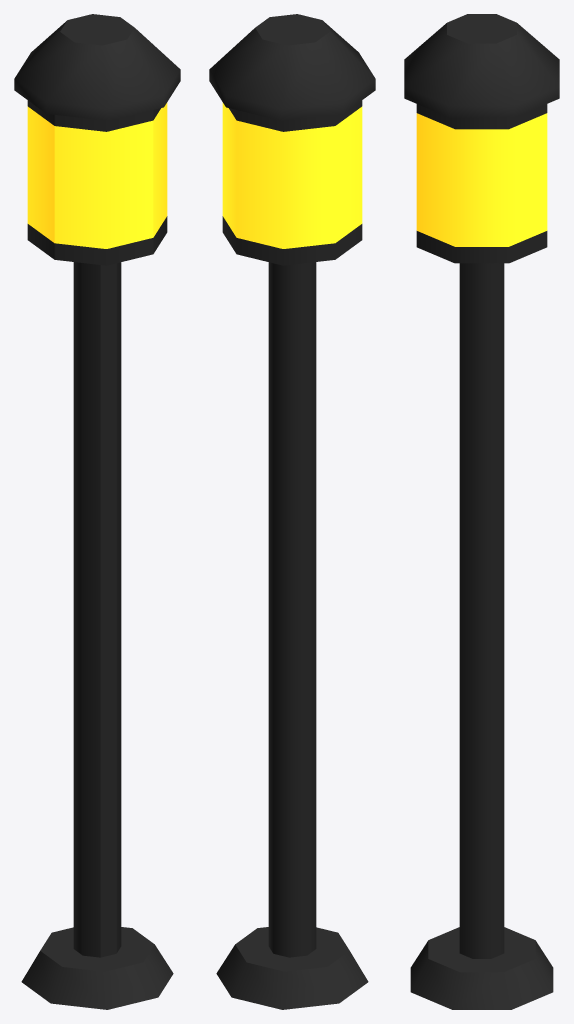
Rendered from StreetLamp.FBX.
3 views of the same model, side by side, from view 1: azimuth 30°, elevation 25°; view 2: azimuth 150°, elevation 25°; view 3: azimuth 270°, elevation 25° (orthographic).
Parts seen in each view (by area): view 1: StreetLamp; view 2: StreetLamp; view 3: StreetLamp.
Boxes of the visible parts, left/top/right/bottom form: StreetLamp: left=14, top=14, right=180, bottom=1009; StreetLamp: left=209, top=14, right=375, bottom=1009; StreetLamp: left=404, top=14, right=559, bottom=1009.
Bounding box in the file's own units: 14.95 × 101 × 14.95.
